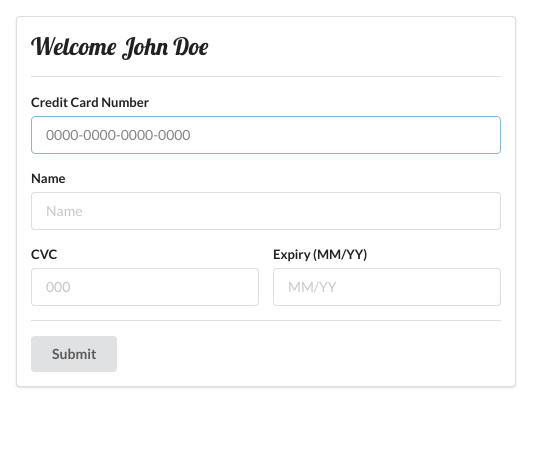
Scenario: submit invalid cvc number
The width and height of the screenshot is (533, 468).
Enter an invalid credit card number
Type "11" into the field with test id "credit-card-cvc-text-input" at x=145, y=287, box [31,268,259,306]
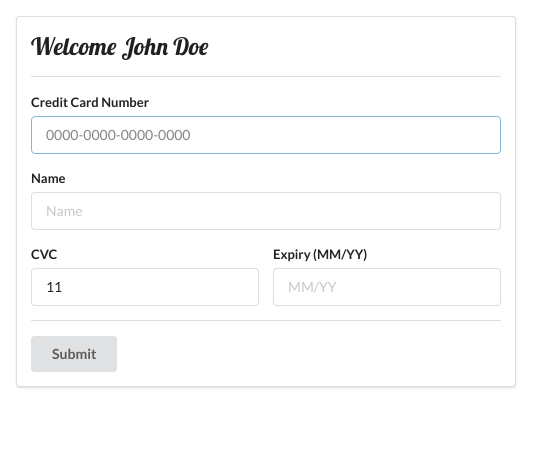
Click submit
Click the button "Submit" at x=74, y=354, box [31,336,118,372]
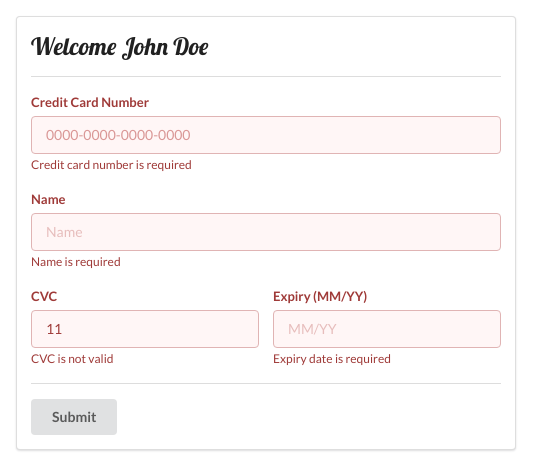
Expected: the text "CVC is not valid" is shown, [31,351,113,366]
